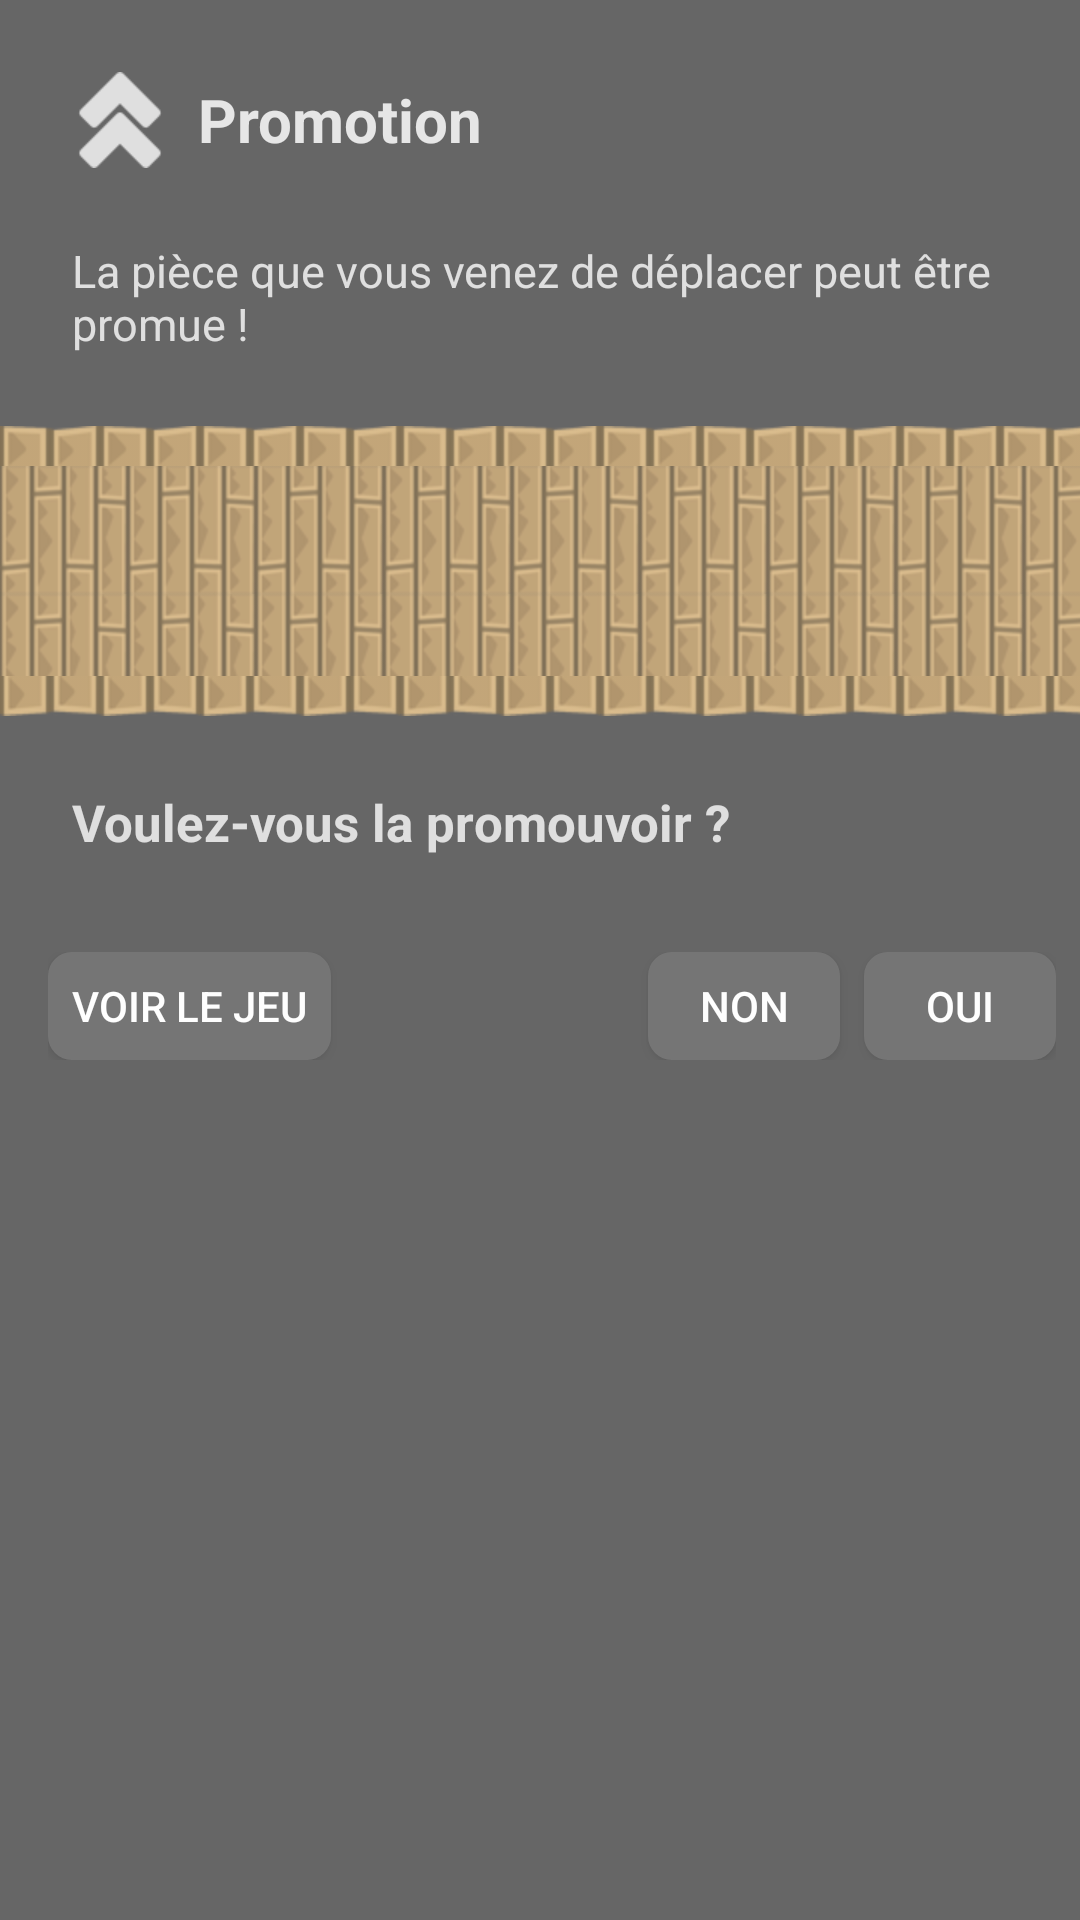

Icons on this 1080px x 1920px Android screen, each with the point to tap as point (x, y):
level up: point (120, 120)
